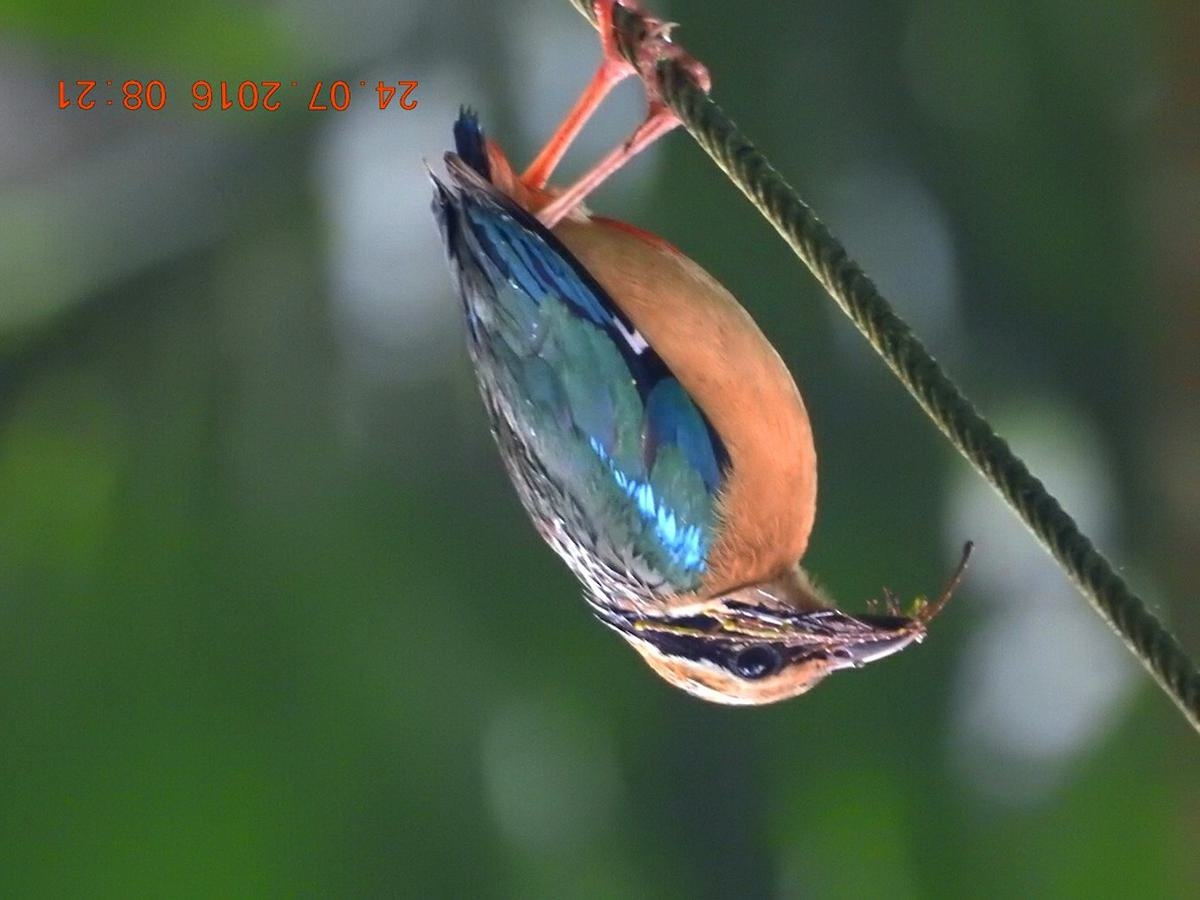pitta: (408, 34, 976, 713)
